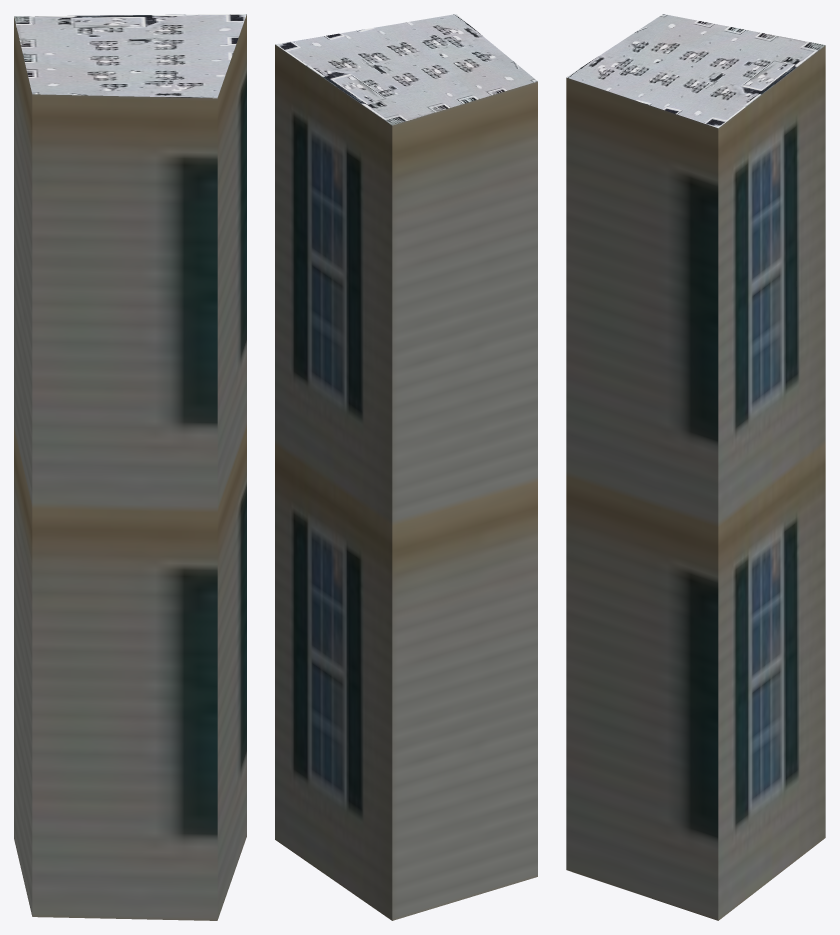
File: ResTex__3387.fbx
The picture shows the model from 3 angles, left to right: view 1: azimuth 30°, elevation 25°; view 2: azimuth 150°, elevation 25°; view 3: azimuth 270°, elevation 25°; orthographic projection. The views are drawn at different scales.
Visible parts, largest first — view 1: CityEngineMaterial_7_m, CityEngineMaterial_4_m; view 2: CityEngineMaterial_7_m, CityEngineMaterial_4_m; view 3: CityEngineMaterial_7_m, CityEngineMaterial_4_m.
Part boxes in pixels (x1,y1,x2,y2): CityEngineMaterial_7_m: (14,14,246,920); CityEngineMaterial_4_m: (14,14,246,98); CityEngineMaterial_7_m: (275,44,537,920); CityEngineMaterial_4_m: (275,14,537,125); CityEngineMaterial_7_m: (566,45,825,920); CityEngineMaterial_4_m: (566,14,825,128).
Bounding box in the file's own units: 1.86 × 6 × 1.78.
2 materials, 2 textured.
